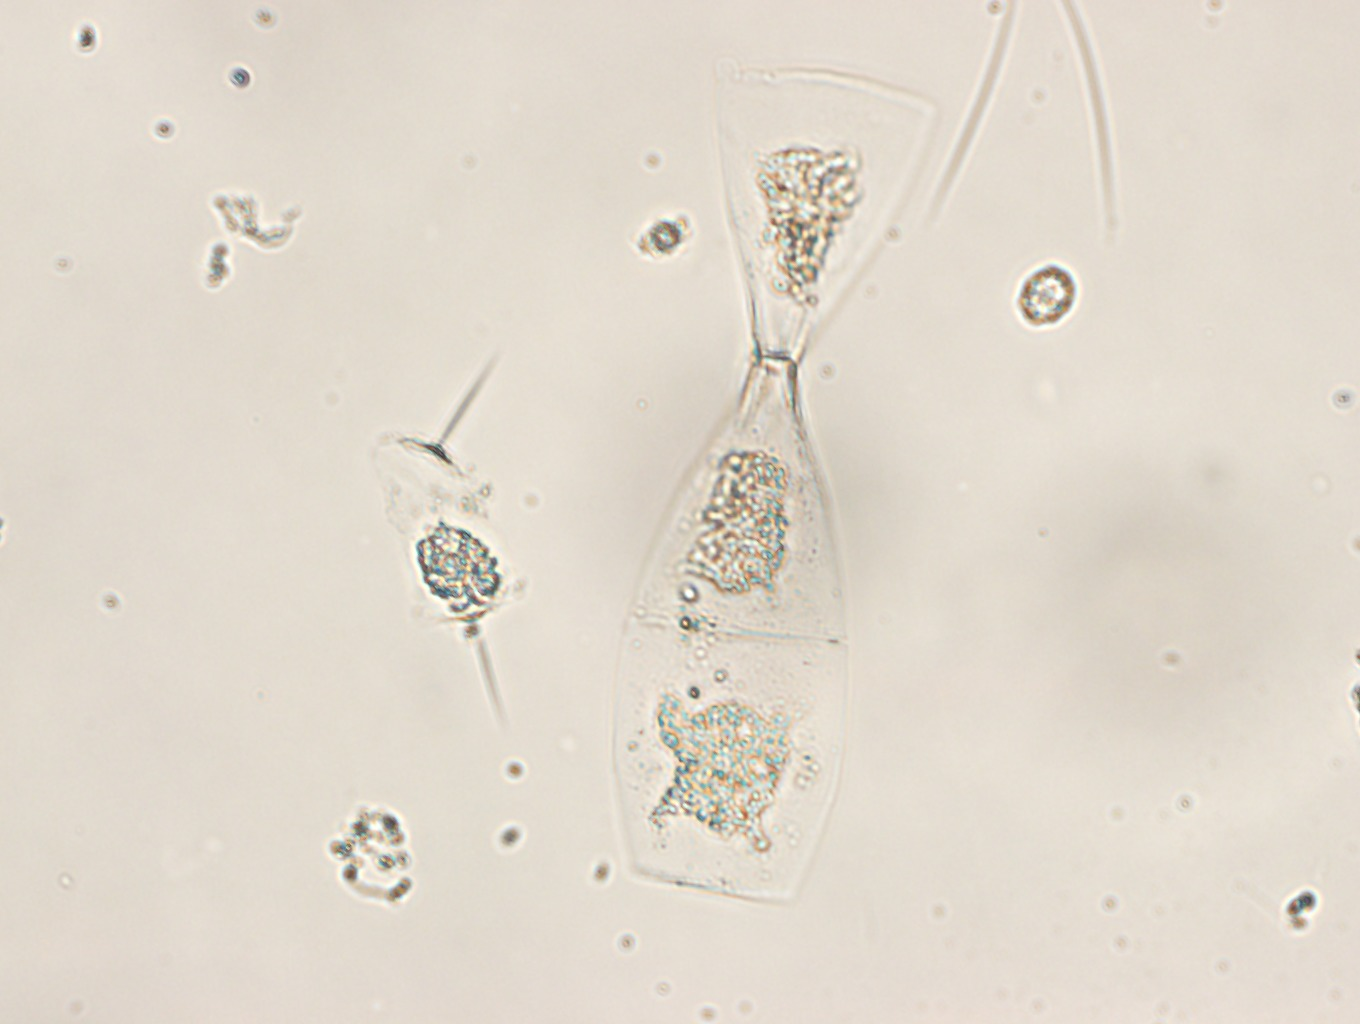helicotheca: (614, 66, 940, 905)
